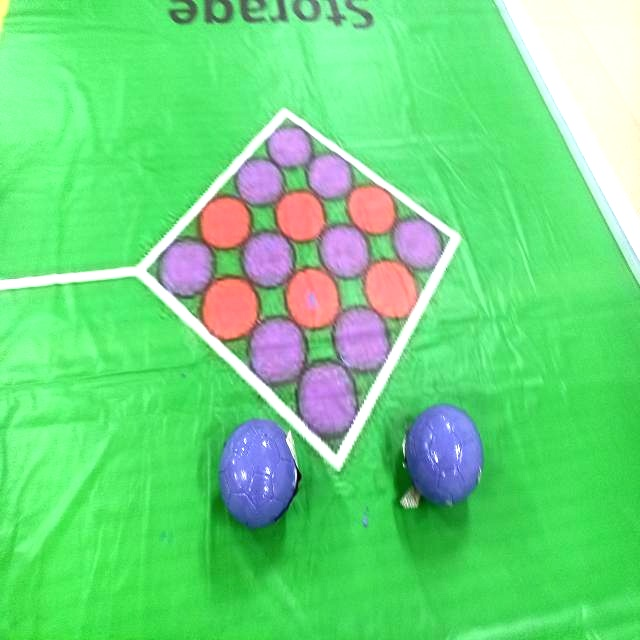purple_ball: (391, 398, 494, 512), (212, 414, 308, 535)
